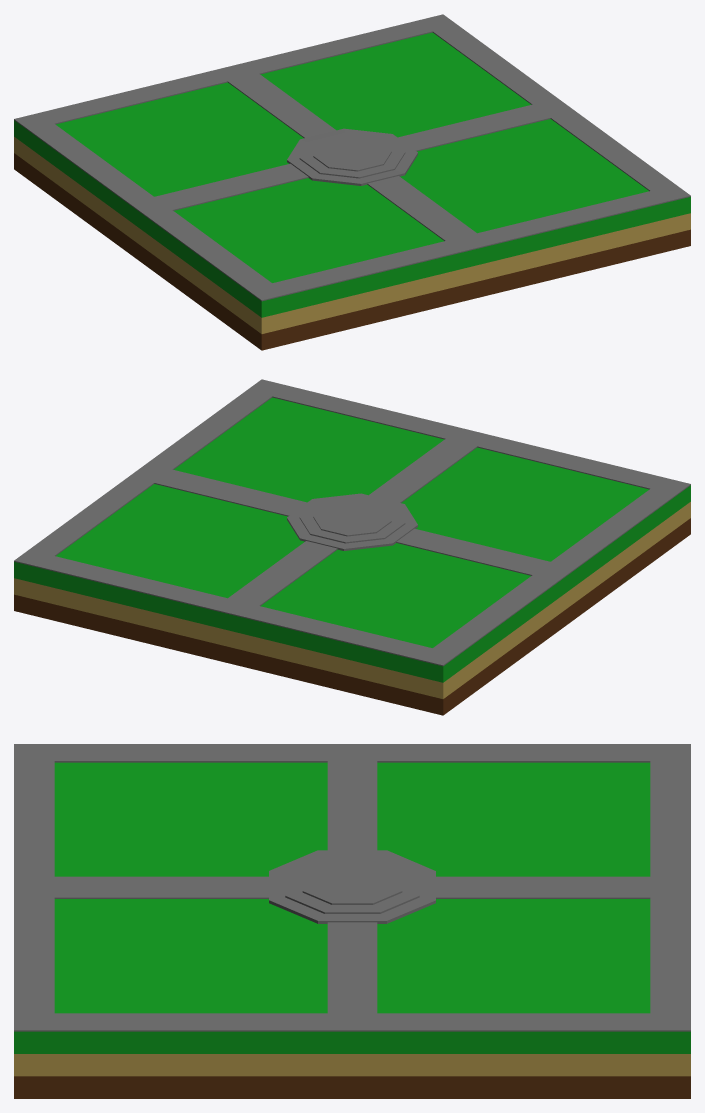
Rendered from Park-HitBox.glb.
The picture shows the model from 3 angles, top to bottom: view 1: azimuth 30°, elevation 25°; view 2: azimuth 150°, elevation 25°; view 3: azimuth 270°, elevation 25°; orthographic projection. The views are drawn at different scales.
Parts seen in each view (by area): view 1: Plane.001, Cube.021, Cylinder.002; view 2: Plane.001, Cube.021, Cylinder.002; view 3: Plane.001, Cube.021, Cylinder.002.
Part boxes in pixels (bbox=[...]): Plane.001: bbox=[14, 32, 690, 350]; Cube.021: bbox=[14, 14, 690, 301]; Cylinder.002: bbox=[287, 128, 417, 185]; Plane.001: bbox=[14, 397, 690, 715]; Cube.021: bbox=[14, 379, 690, 666]; Cylinder.002: bbox=[287, 493, 417, 550]; Plane.001: bbox=[14, 762, 690, 1098]; Cube.021: bbox=[14, 744, 690, 1031]; Cylinder.002: bbox=[269, 850, 435, 923].
Size of what is drawn, in the model's own units: 33.35 by 3.99 by 33.35.
